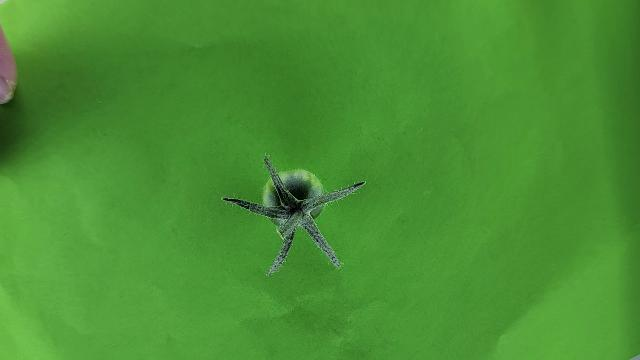Fruit Maturation: (262, 169, 326, 225)
